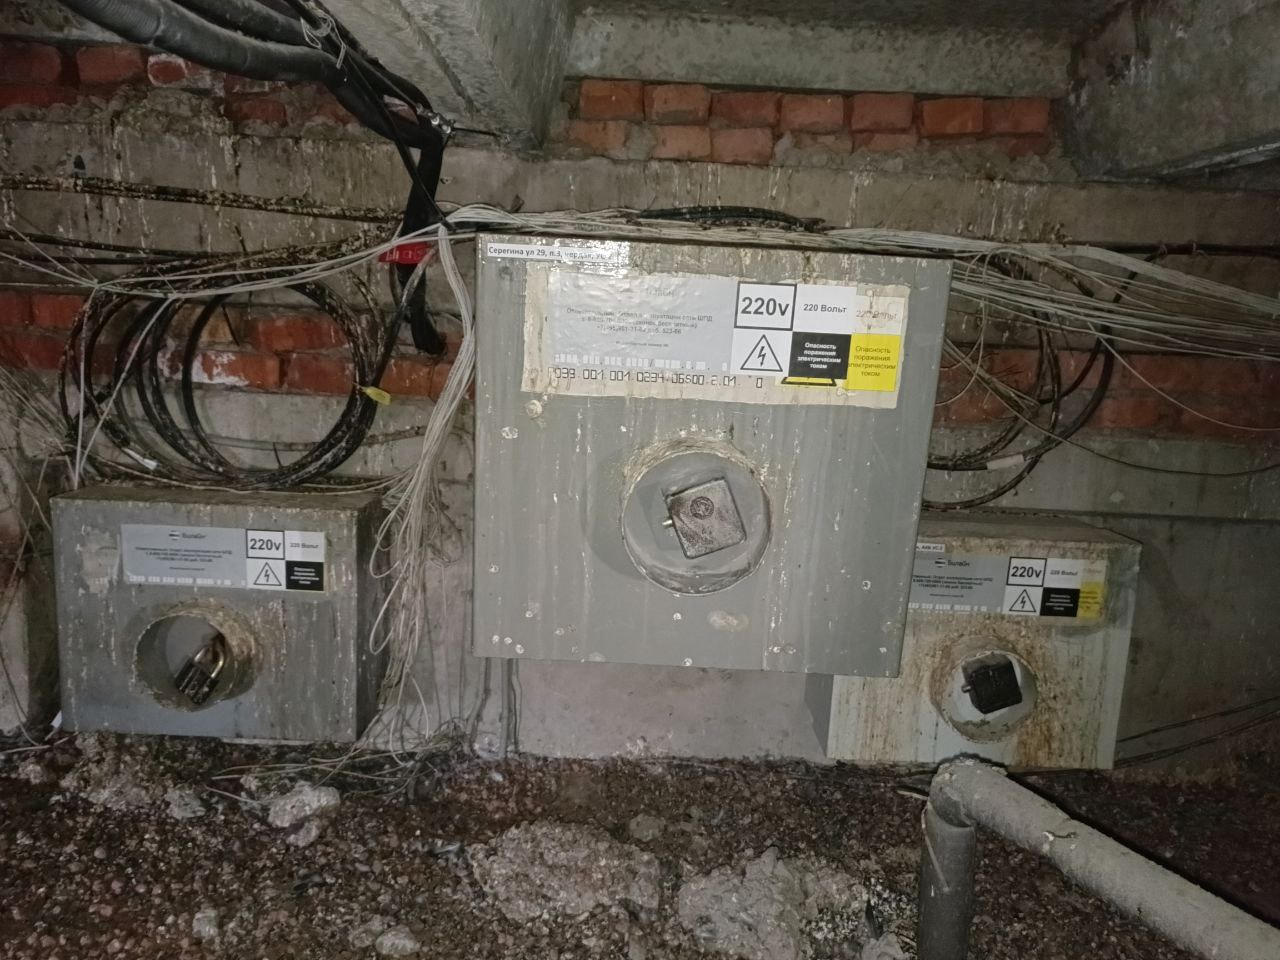shta-3: (46, 474, 389, 743), (802, 508, 1147, 771)
shta-9: (464, 222, 957, 681)
